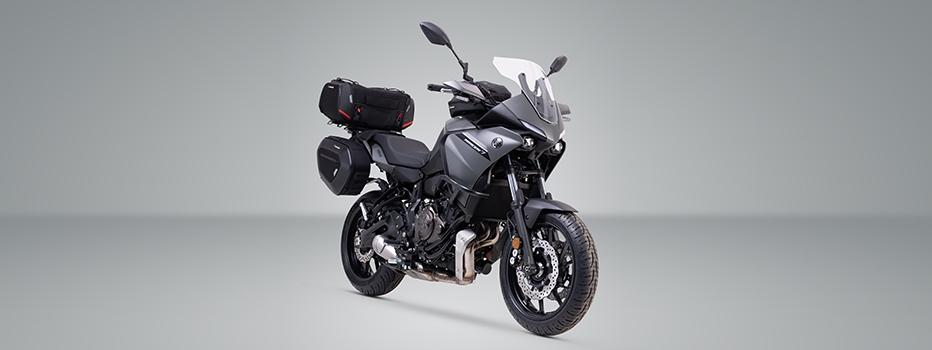engine-chasis: (383, 177, 506, 286)
exhaust: (407, 221, 500, 285), (372, 234, 397, 260)
frontside: (421, 56, 580, 279)
handlebar: (417, 21, 498, 106), (547, 54, 568, 76)
motorbike: (316, 56, 596, 333)
rearside: (316, 77, 424, 260)
seat: (373, 133, 431, 169)
tank: (431, 97, 493, 159), (474, 80, 511, 102)
wheel: (499, 210, 596, 333), (340, 190, 401, 294)
